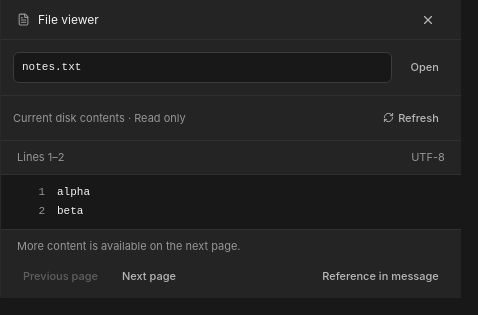
Scenario: FilePanel › uses server offsets and the original revision for next and previous pages
Expected: the text "alpha" is shown, [57,186,90,198]
Click the button "Next page" at (149, 276), box [112,262,186,290]
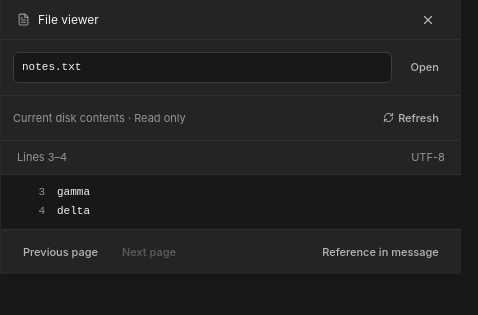
Now the text "gamma" is shown, box [57,186,90,198]
Now the text "alpha" is gone
Click the button "Previous page" at (60, 252), box [13,238,108,266]
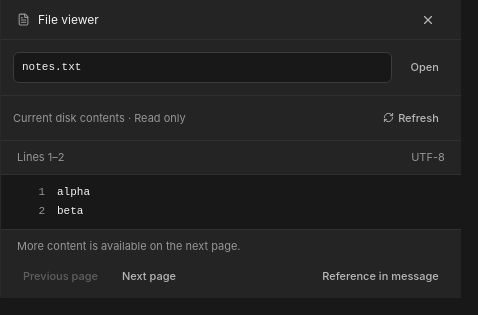
Now the text "alpha" is shown, box [57,186,90,198]
